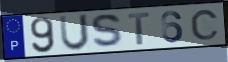6: (160, 10, 185, 44)
9: (28, 16, 55, 54)
C: (189, 9, 221, 42)
S: (90, 13, 127, 50)
T: (127, 11, 152, 46)
U: (58, 13, 91, 53)
